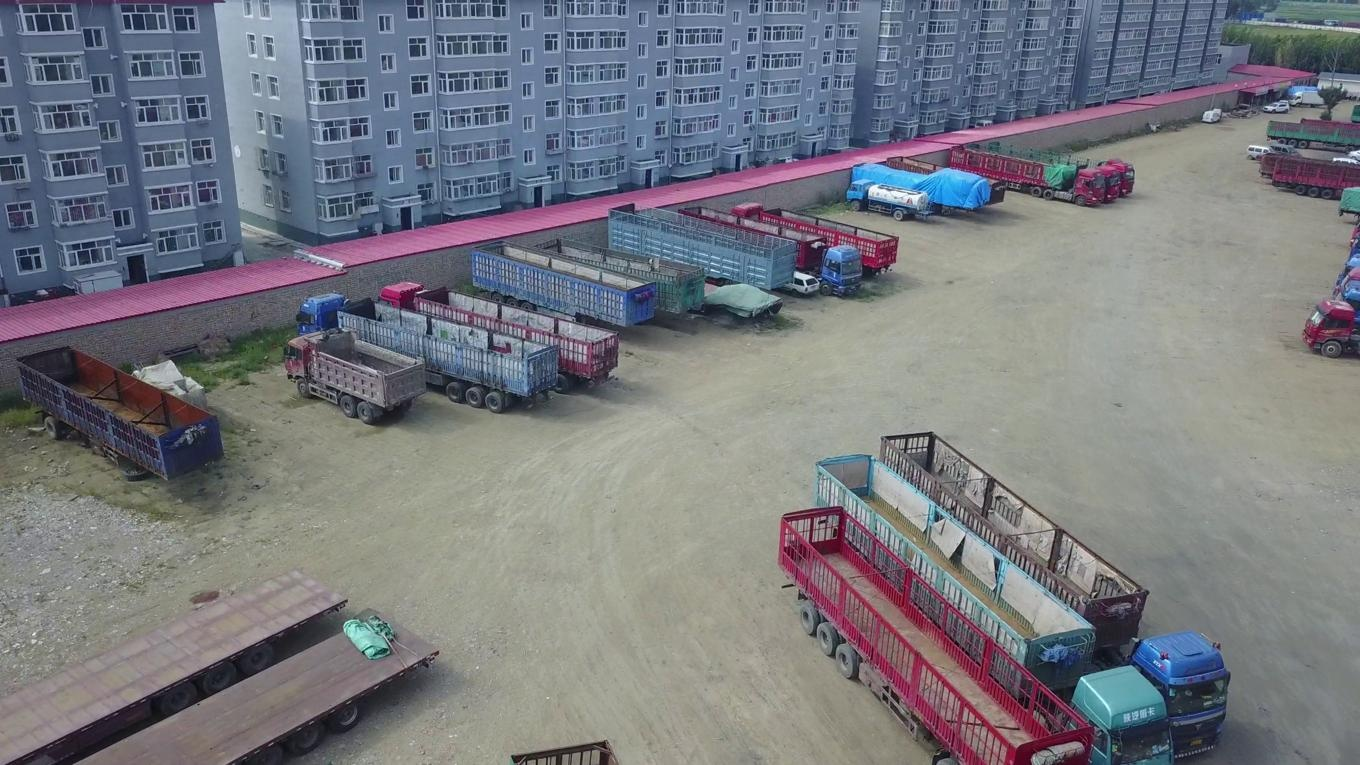car: (781, 266, 816, 295), (1268, 144, 1297, 156), (1264, 101, 1290, 113)
truck: (877, 426, 1226, 748), (819, 459, 1172, 765), (778, 502, 1088, 765), (4, 565, 349, 765), (62, 607, 440, 765), (297, 293, 570, 415), (12, 345, 226, 487), (377, 281, 621, 392), (599, 201, 796, 300), (672, 197, 863, 299), (515, 233, 705, 332), (465, 243, 658, 338), (727, 202, 901, 290), (285, 334, 426, 420), (952, 143, 1122, 203), (990, 133, 1135, 195), (852, 164, 990, 219), (1257, 147, 1360, 186), (848, 178, 932, 218), (1300, 299, 1360, 355), (1272, 160, 1360, 194), (1268, 118, 1360, 150), (1290, 91, 1323, 107)
van: (1246, 145, 1272, 159)
